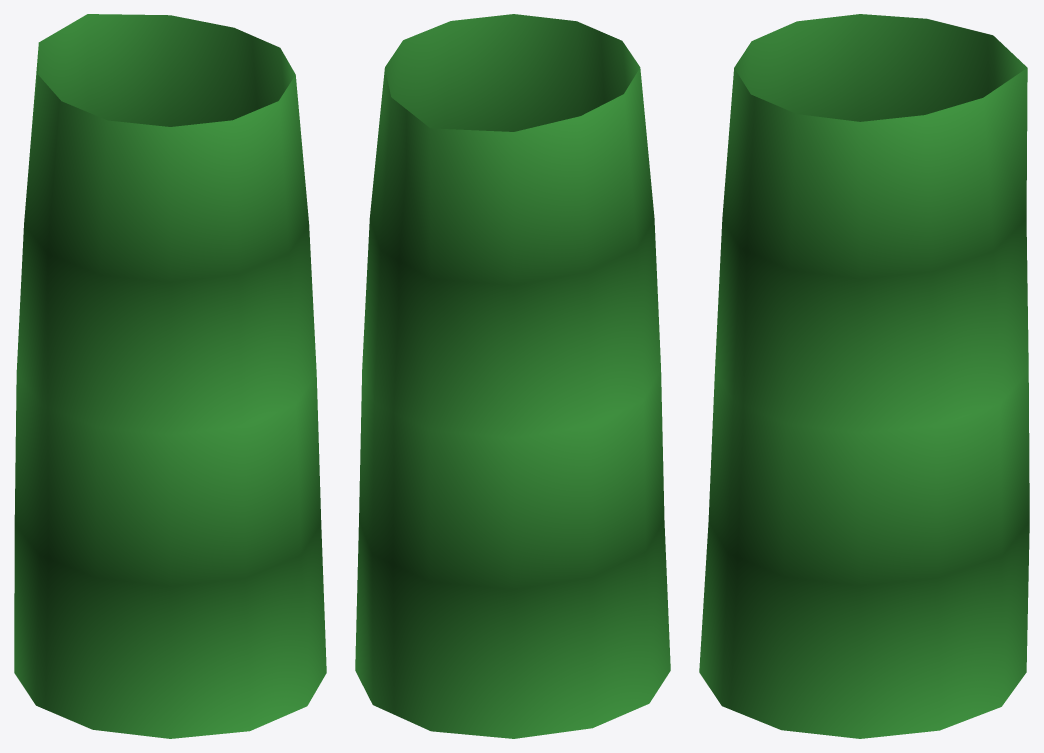
The model's file is chlorophyte_armor_greave.R.glb.
The picture shows the model from 3 angles, left to right: view 1: azimuth 30°, elevation 25°; view 2: azimuth 150°, elevation 25°; view 3: azimuth 270°, elevation 25°; orthographic projection.
Visible parts, largest first — view 1: chlorophyte_armor_greave.R; view 2: chlorophyte_armor_greave.R; view 3: chlorophyte_armor_greave.R.
Boxes of the visible parts, bbox=[...] form: chlorophyte_armor_greave.R: bbox=[14, 14, 326, 738]; chlorophyte_armor_greave.R: bbox=[355, 14, 670, 738]; chlorophyte_armor_greave.R: bbox=[699, 14, 1029, 738].
Bounding box in the file's own units: 0.1776 × 0.3767 × 0.1866.
